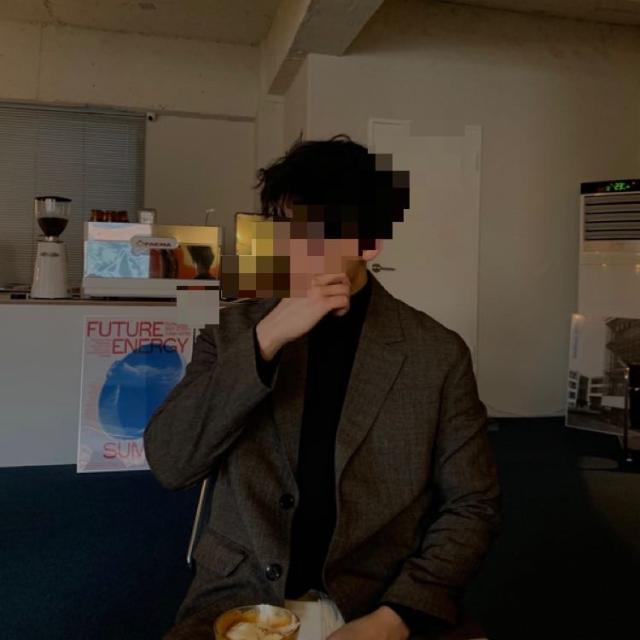blazer: (142, 269, 493, 640)
